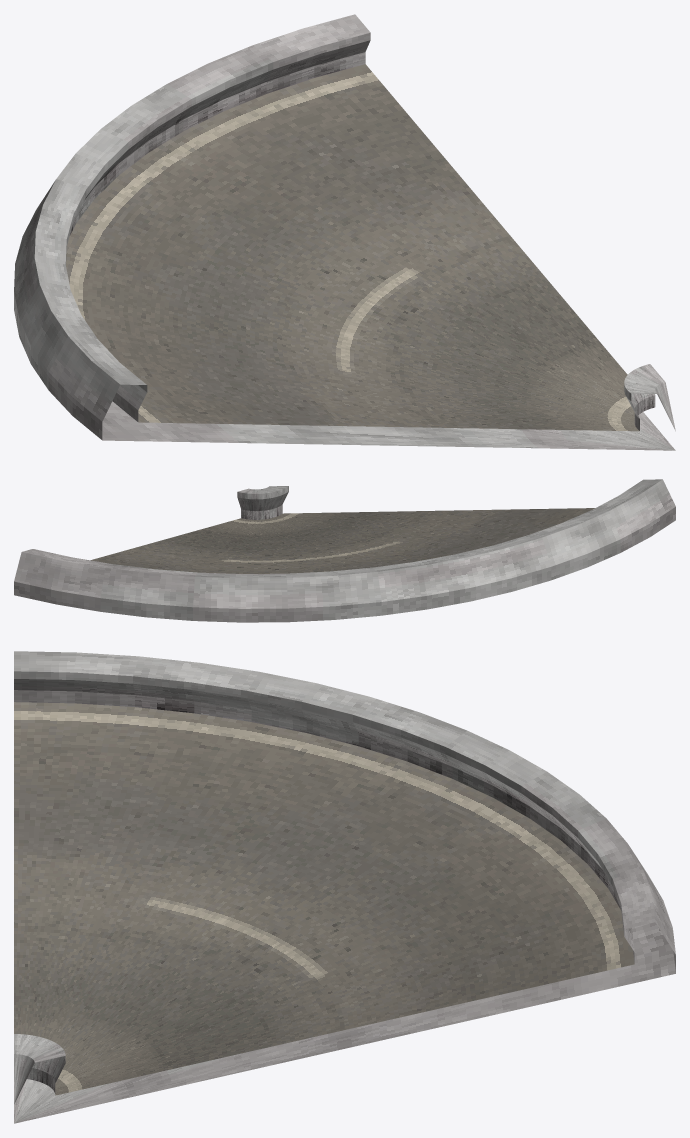
The model's file is turn-right1x1.glb.
3 renders of one model, top to bottom at view 1: azimuth 30°, elevation 25°; view 2: azimuth 150°, elevation 25°; view 3: azimuth 270°, elevation 25°, orthographic. The views are drawn at different scales.
Parts seen in each view (by area): view 1: road-Turn-HalfBankedRight-HalfBankedRight-Even-Right-Size1; view 2: road-Turn-HalfBankedRight-HalfBankedRight-Even-Right-Size1; view 3: road-Turn-HalfBankedRight-HalfBankedRight-Even-Right-Size1.
Boxes of the visible parts, left/top/right/bottom form: road-Turn-HalfBankedRight-HalfBankedRight-Even-Right-Size1: left=14, top=14, right=675, bottom=450; road-Turn-HalfBankedRight-HalfBankedRight-Even-Right-Size1: left=14, top=479, right=675, bottom=622; road-Turn-HalfBankedRight-HalfBankedRight-Even-Right-Size1: left=14, top=651, right=675, bottom=1123.
Bounding box in the file's own units: 1 × 0.3359 × 1.
2 materials, 2 textured.
